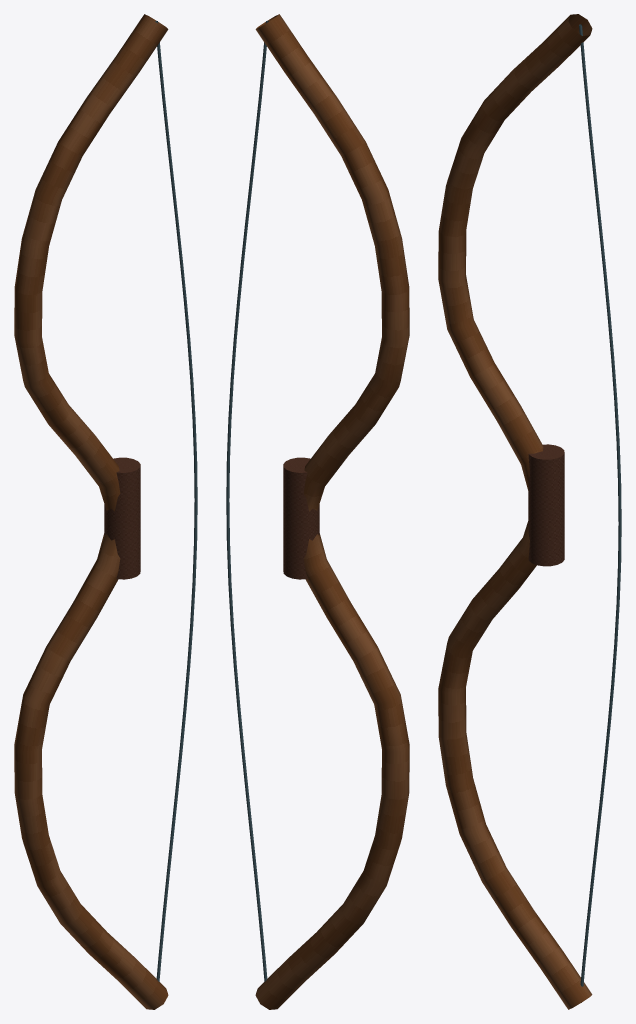
Rendered from longbow.lod1.glb.
3 views of the same model, side by side, from view 1: azimuth 30°, elevation 25°; view 2: azimuth 150°, elevation 25°; view 3: azimuth 330°, elevation 25° (orthographic).
Visible parts, largest first — view 1: wood.0, cloth.1, leather.2; view 2: wood.0, cloth.1, leather.2; view 3: wood.0, leather.2, cloth.1.
Part boxes in pixels (x1=…): wood.0: x1=14, y1=14, x2=168, y2=1009; cloth.1: x1=155, y1=21, x2=197, y2=981; leather.2: x1=104, y1=457, x2=140, y2=579; wood.0: x1=255, y1=14, x2=409, y2=1009; cloth.1: x1=226, y1=21, x2=268, y2=981; leather.2: x1=283, y1=457, x2=319, y2=579; wood.0: x1=438, y1=14, x2=592, y2=1009; leather.2: x1=528, y1=444, x2=564, y2=566; cloth.1: x1=579, y1=24, x2=621, y2=1002.
Size of the model in its own units: 0.3211 by 1.68 by 0.056.
Materials: 3 (3 with a texture image).
